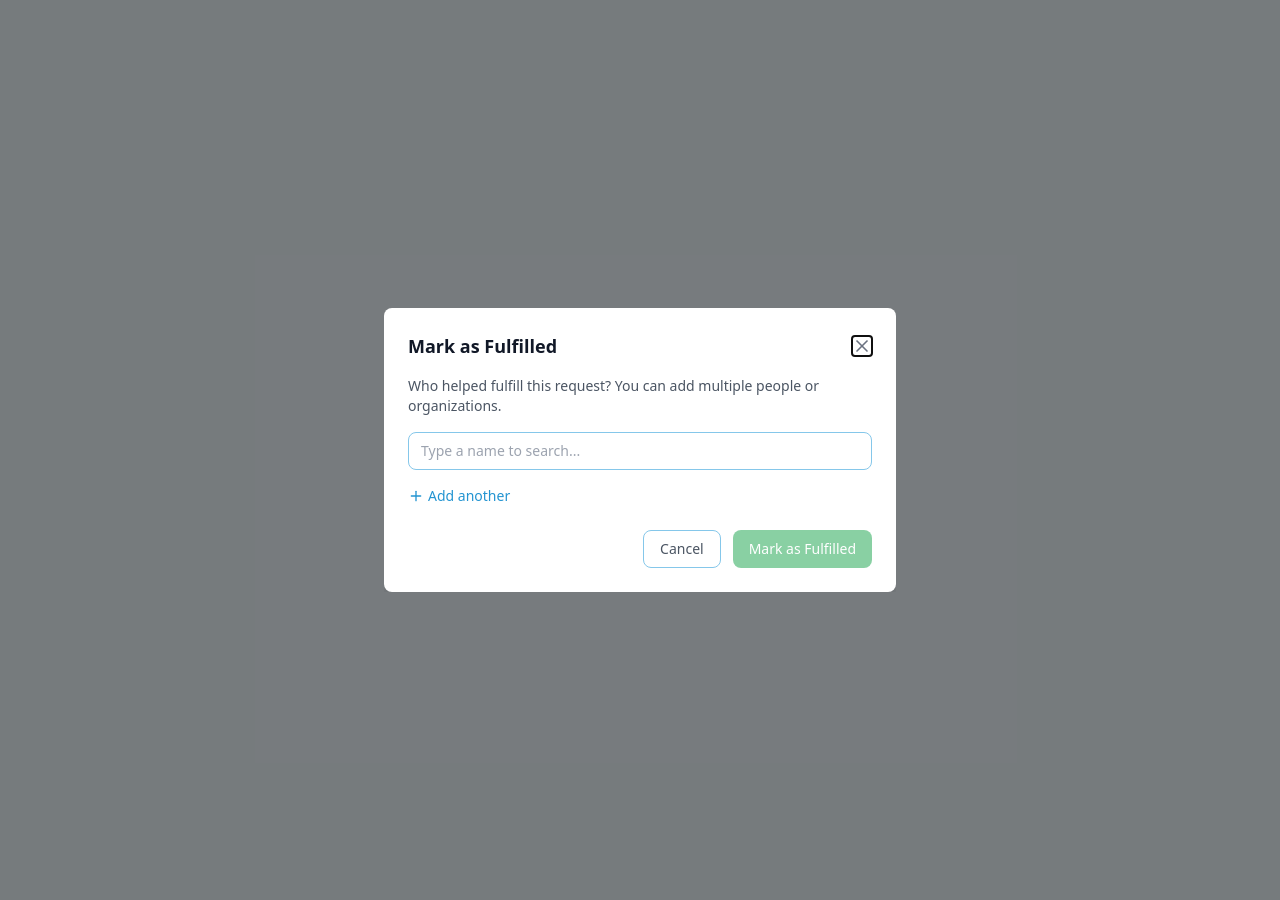
FulfillModal — adding and removing fulfillers › removes a fulfiller input when the remove button is clicked
# Add a second input first
Click the button "Add another": (459, 496) x1=408 y1=486 x2=510 y2=506
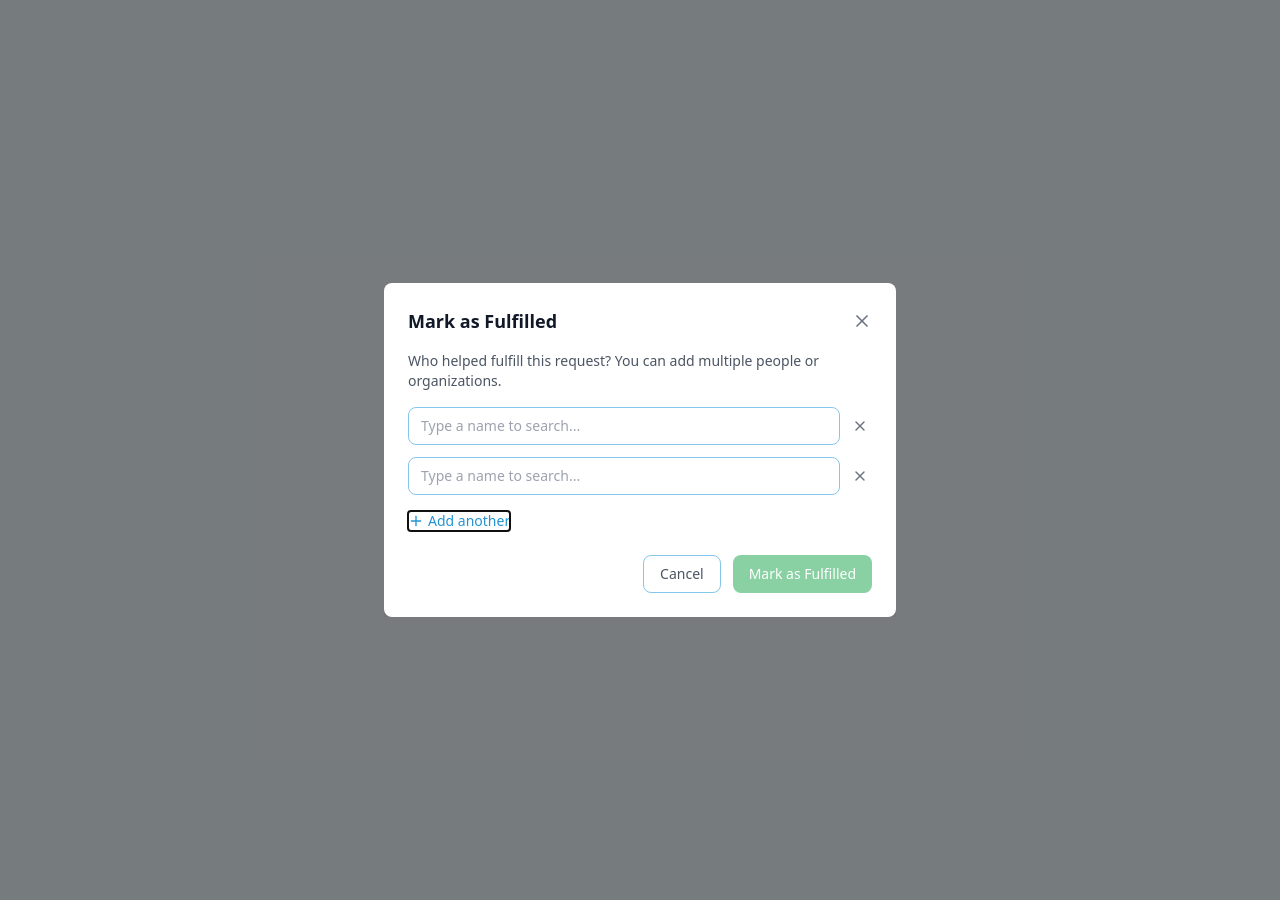
Result: the number of fields with placeholder "Type a name to search..." is 2 at x1=408 y1=407 x2=840 y2=445; x1=408 y1=457 x2=840 y2=495
Click the button named "Close": (862, 321) x1=852 y1=311 x2=872 y2=331
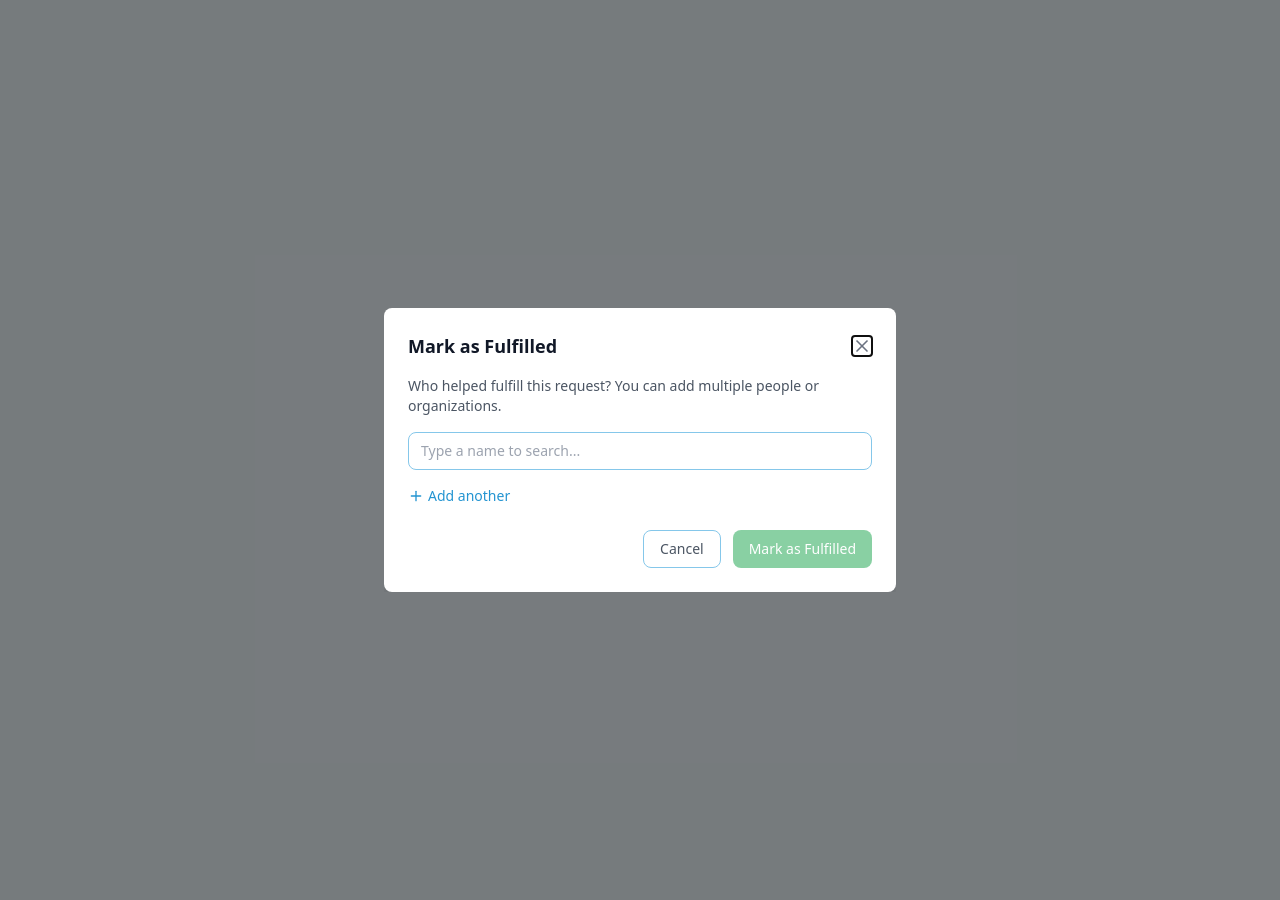
Result: the number of fields with placeholder "Type a name to search..." is 1 at x1=408 y1=432 x2=872 y2=470
